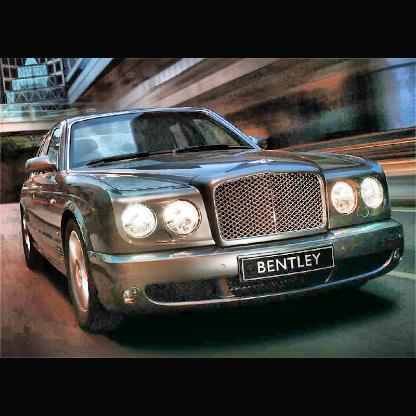Bentley Arnage Sedan 2009: (17, 107, 403, 334)
